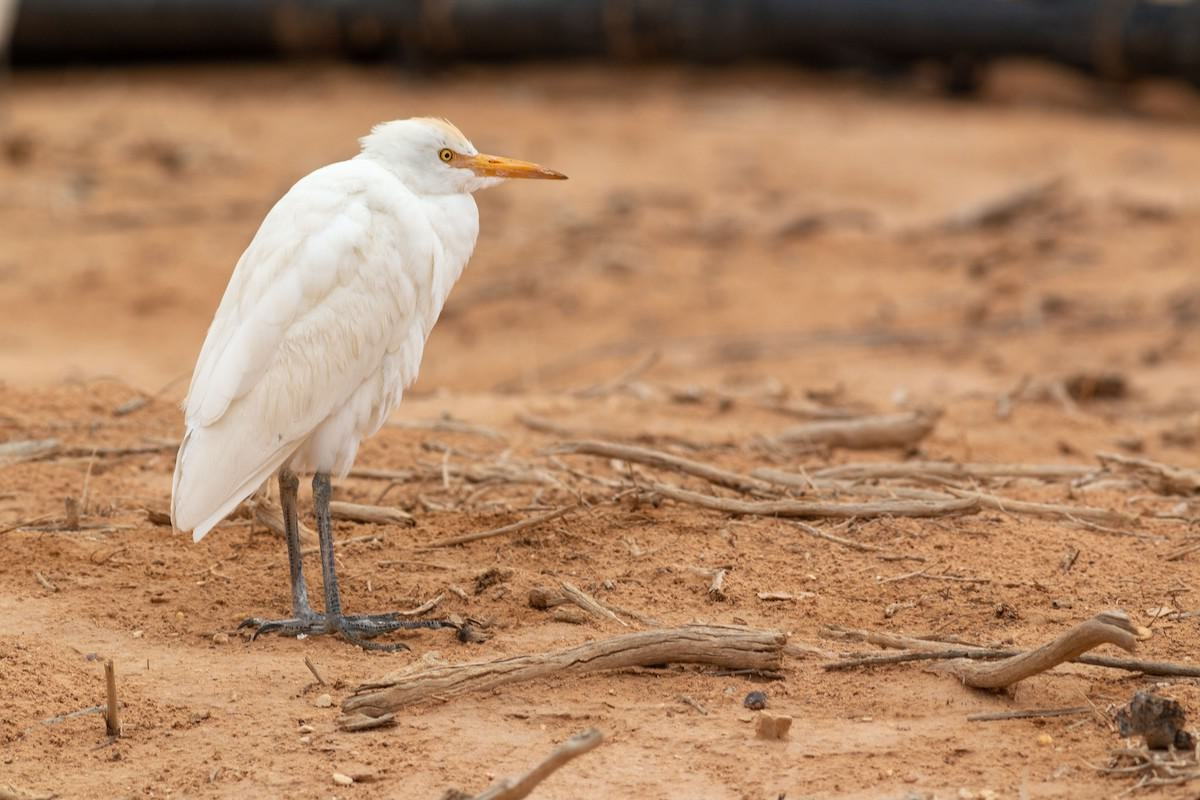egret: (135, 108, 589, 599)
